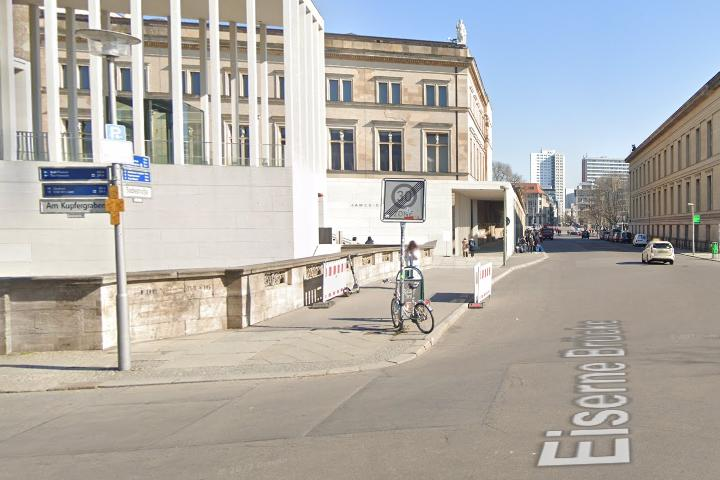traffic_sign: (391, 183, 418, 208)
vehicle: (638, 238, 676, 266)
